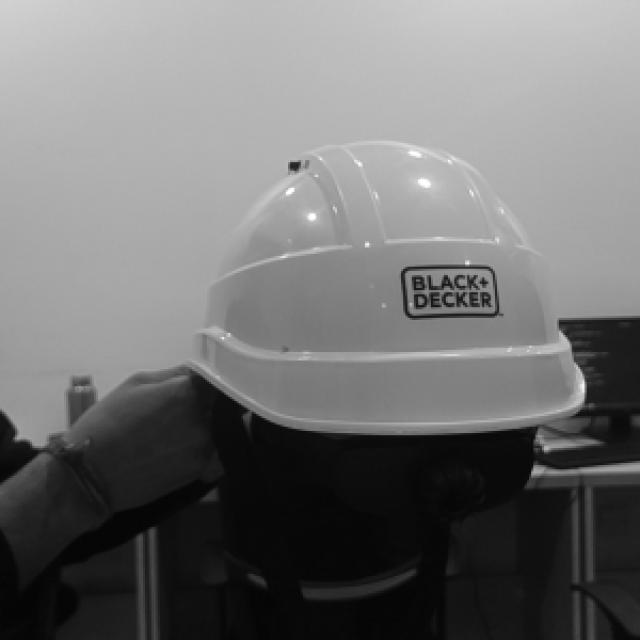safety_helmet: (193, 141, 586, 435)
